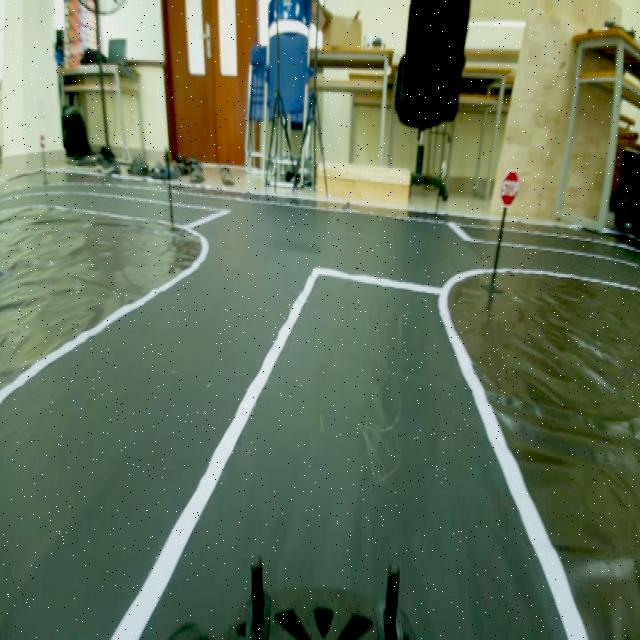stop: (497, 162, 523, 212)
